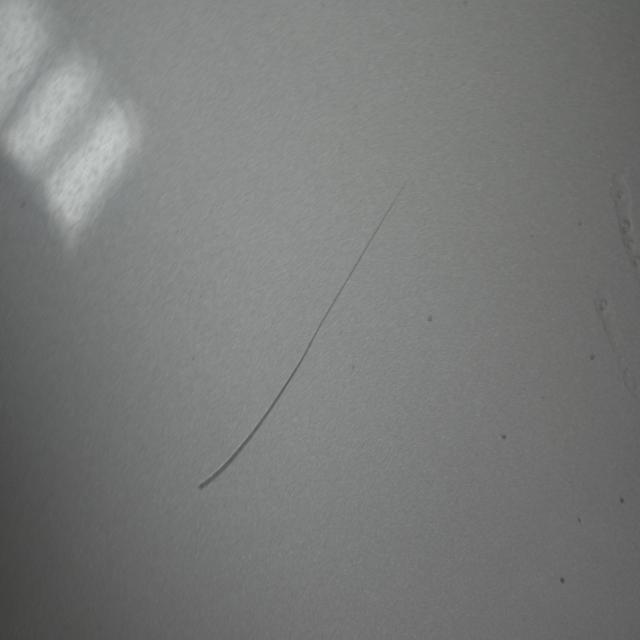dirt: (424, 310, 435, 326), (497, 427, 508, 443), (558, 573, 568, 586), (588, 350, 597, 362), (620, 492, 626, 506), (576, 518, 583, 526)
runs: (599, 183, 640, 412)
scratch: (189, 176, 408, 495)
